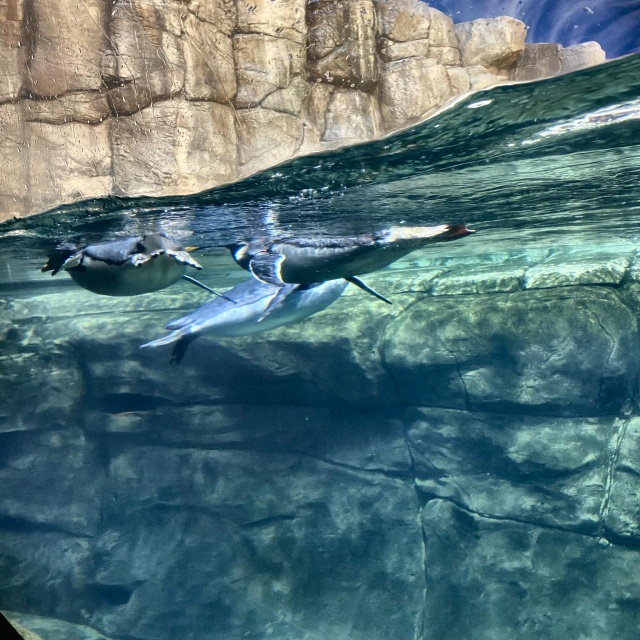penguin: (182, 221, 477, 304), (141, 256, 352, 363), (39, 231, 237, 305)
